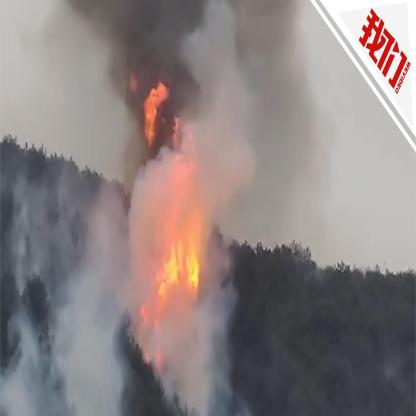fire: (126, 67, 192, 160), (146, 220, 204, 297)
smoke: (72, 5, 294, 95)
